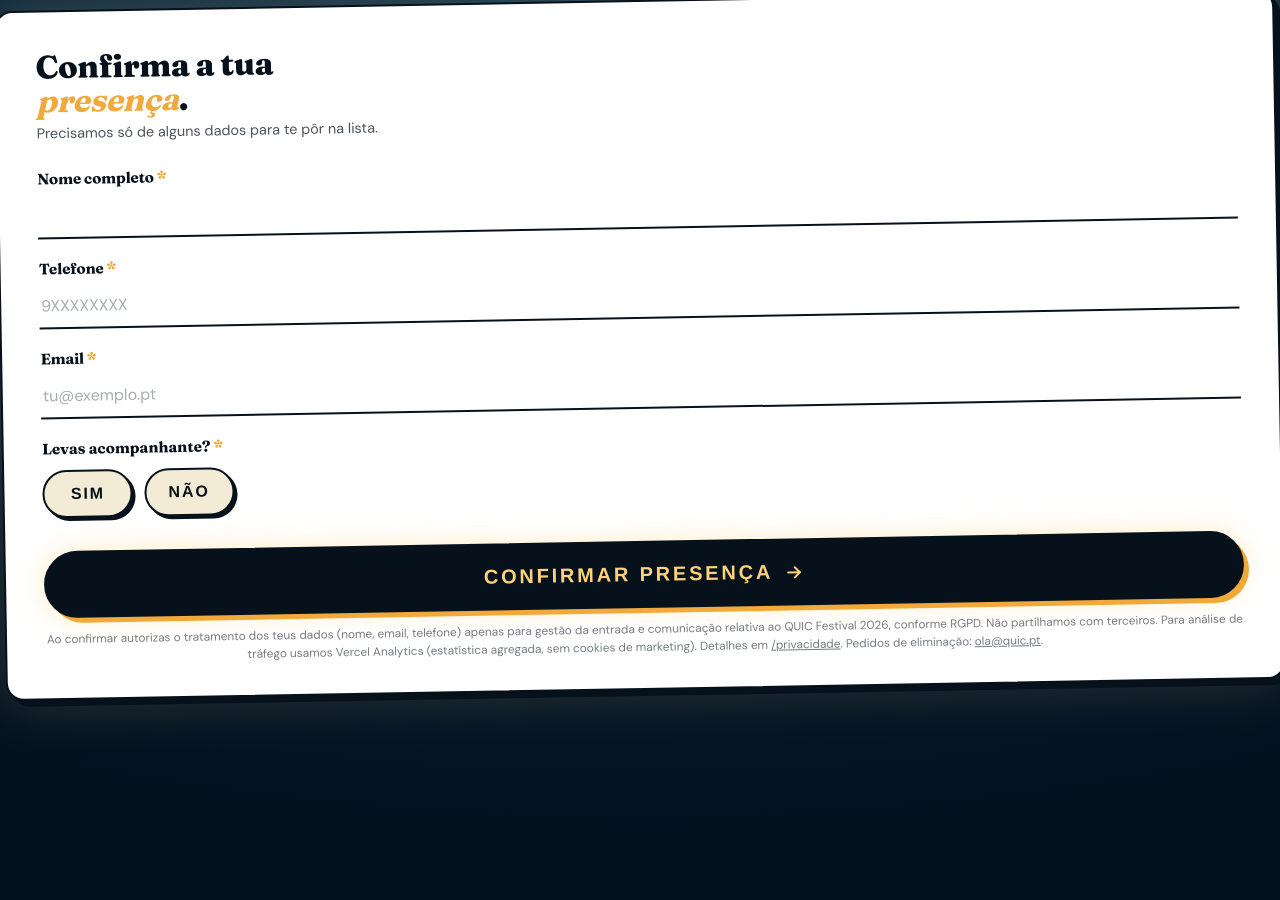
Test: RsvpForm › submit com resposta {ok:true} (dedup) → mostra mensagem genérica
The width and height of the screenshot is (1280, 900).
In the field labelled "Nome completo *": (638, 207) [38,174,1238,239], type "Maria Silva"
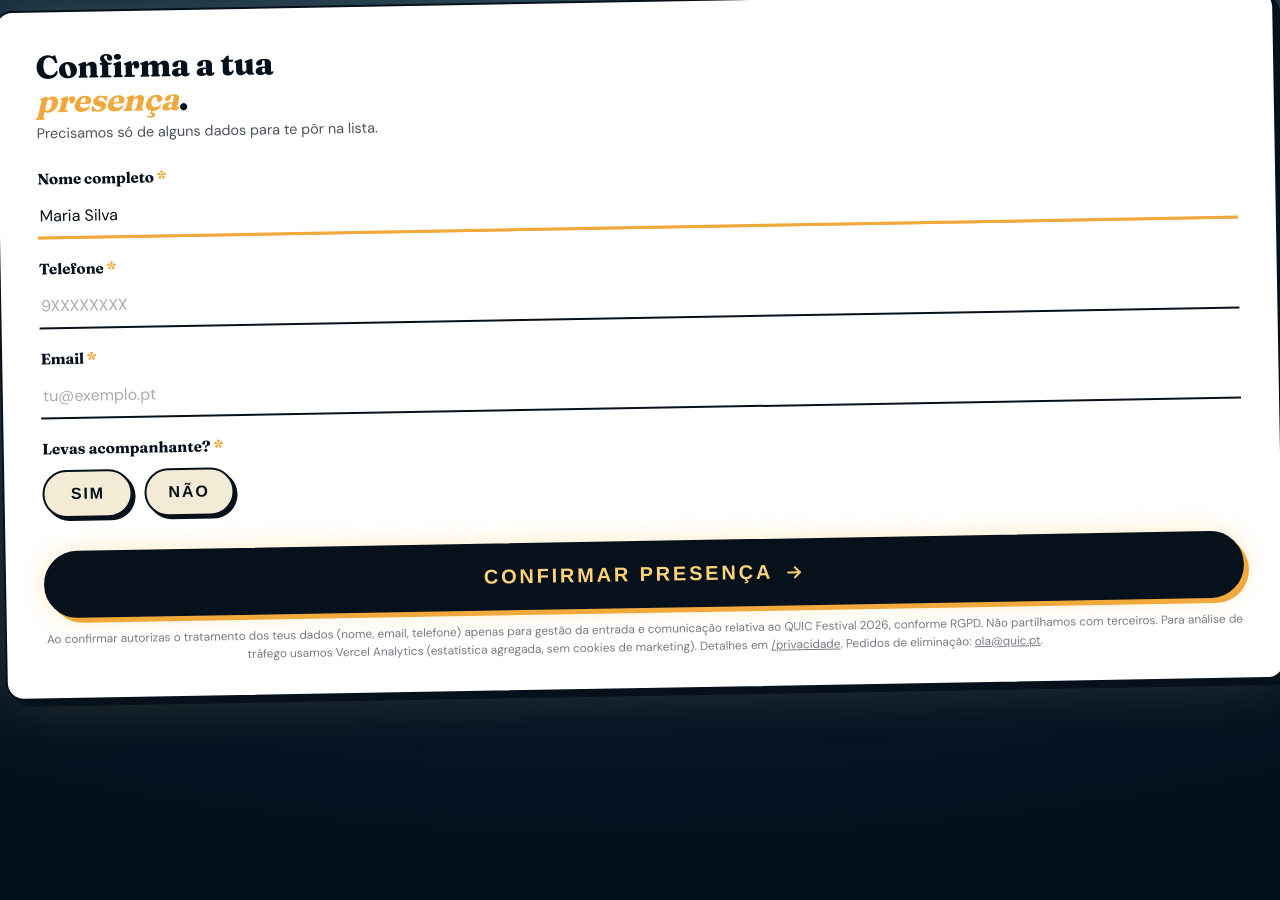
In the field with id "tel": (639, 297) [39,264,1239,329], type "912345678"
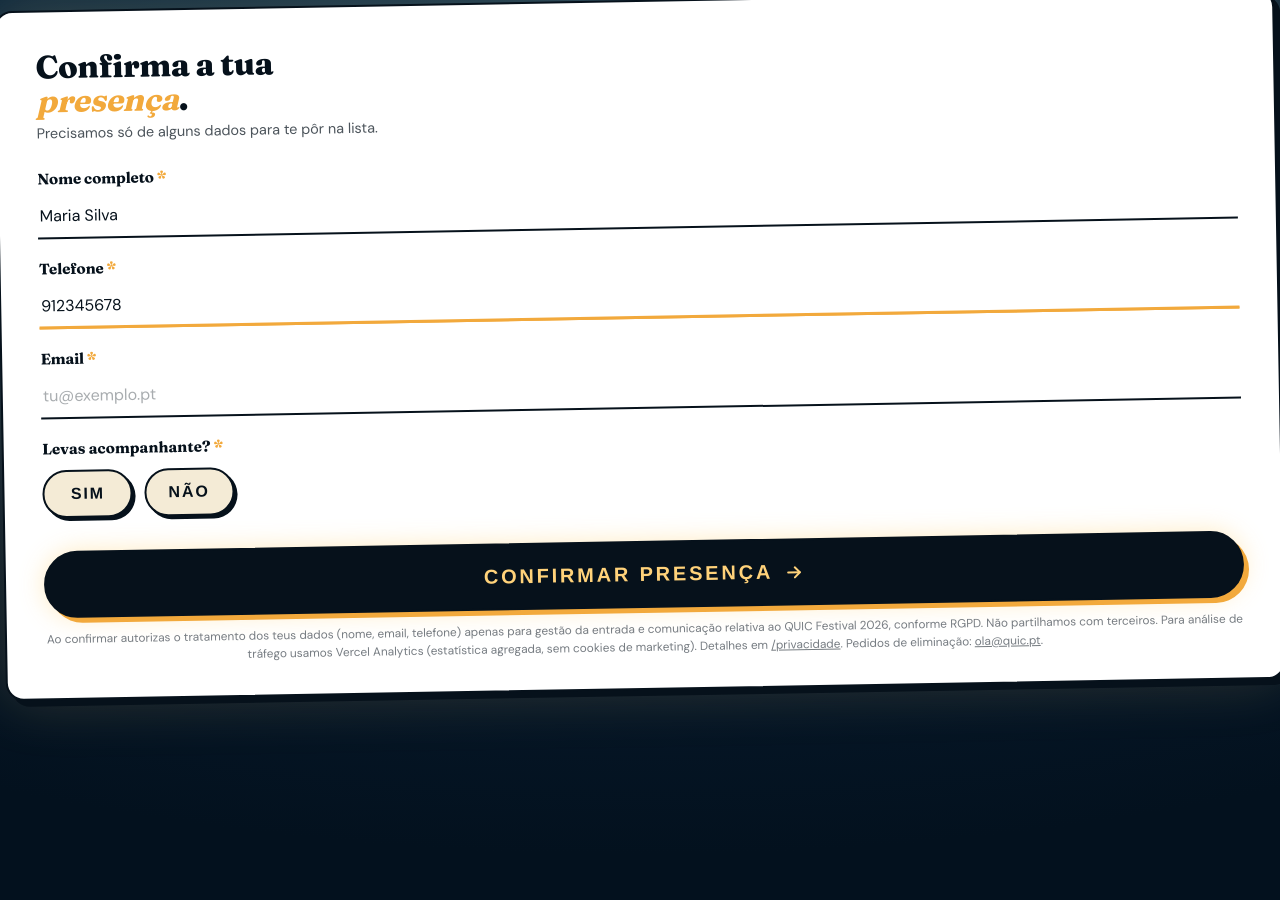
In the field with id "email": (641, 387) [41,354,1241,419], type "maria@test.pt"
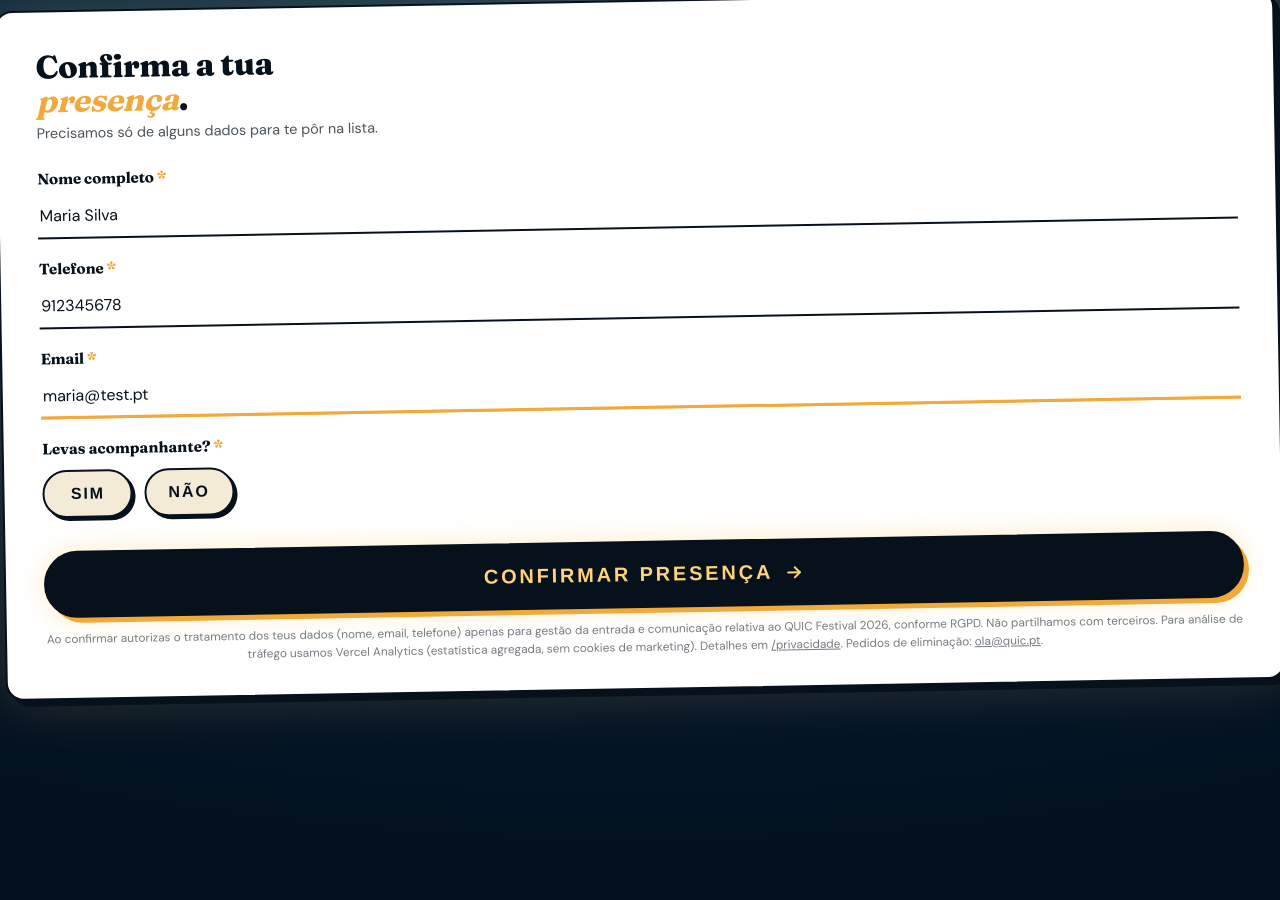
Click the radio button labelled "NÃO": (189, 492) [144,467,234,516]
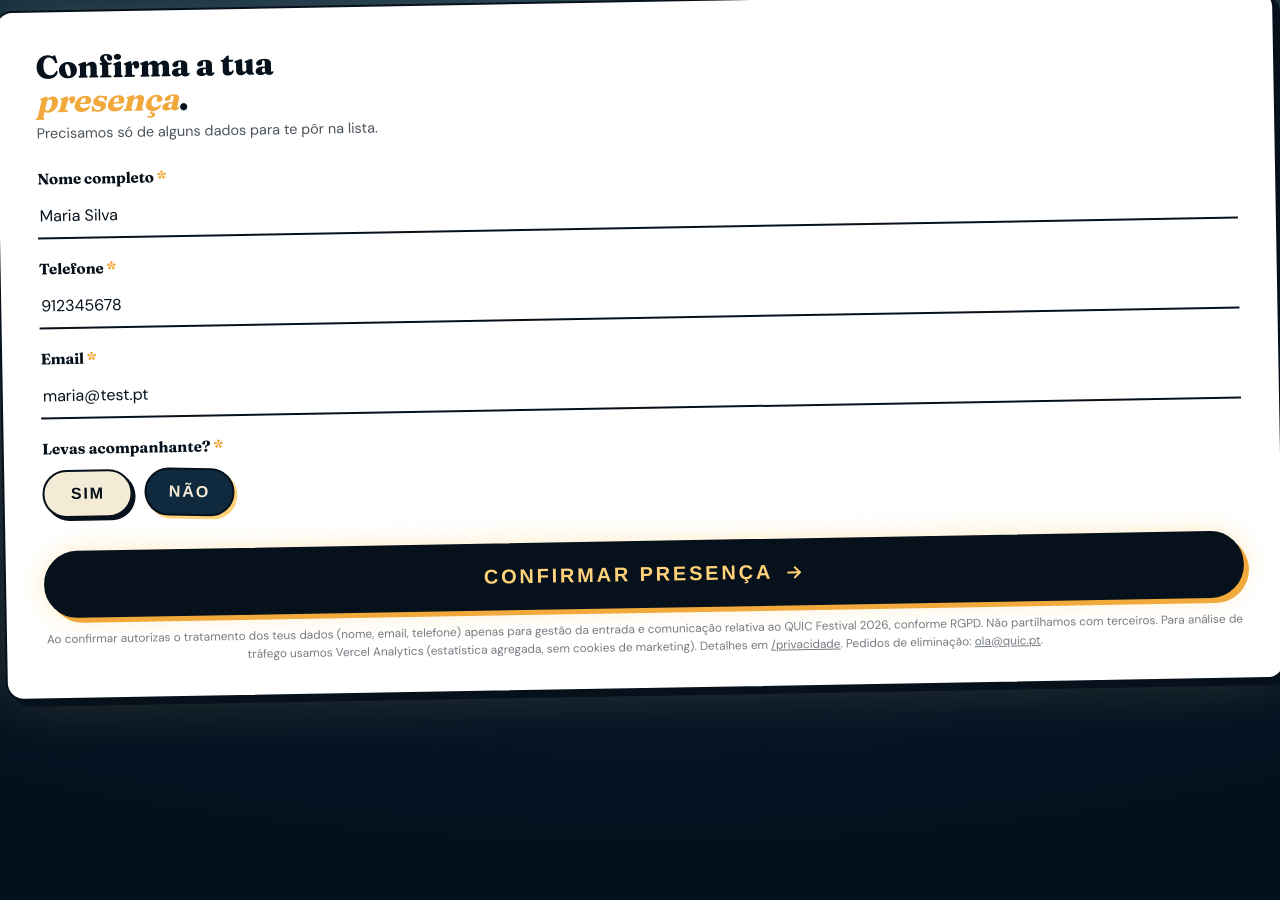
Click the button "CONFIRMAR PRESENÇA": (644, 575) [44,531,1244,618]
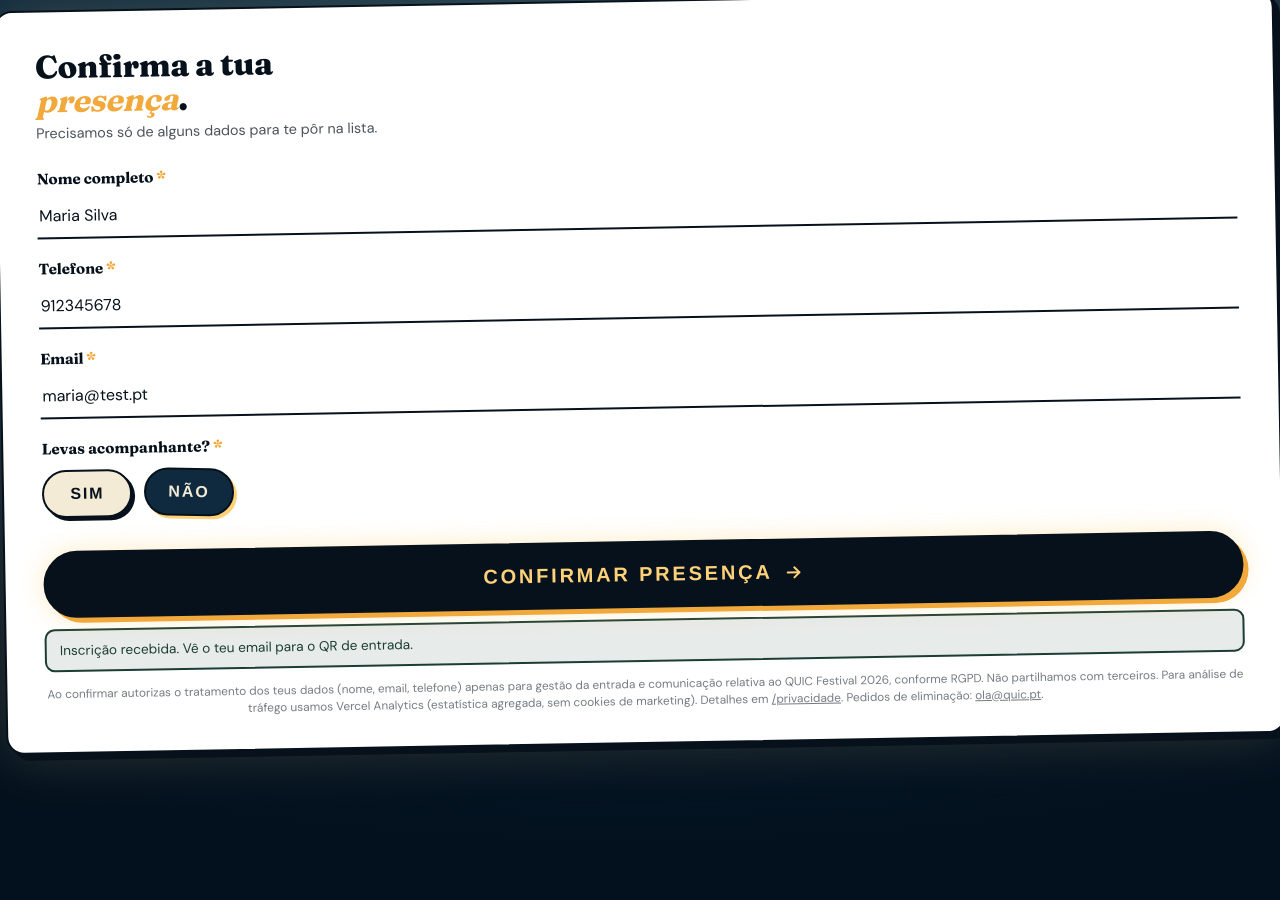
Check: the message shows "Inscrição recebida", box [60,636,413,659]
